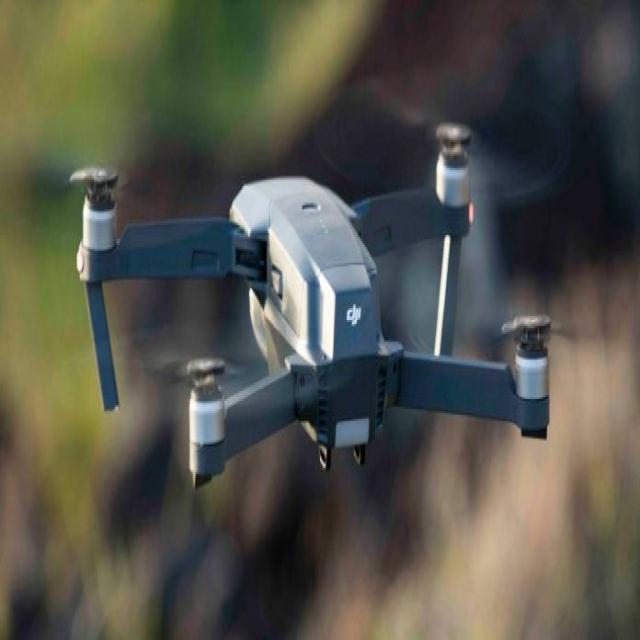drone: (68, 108, 595, 523)
